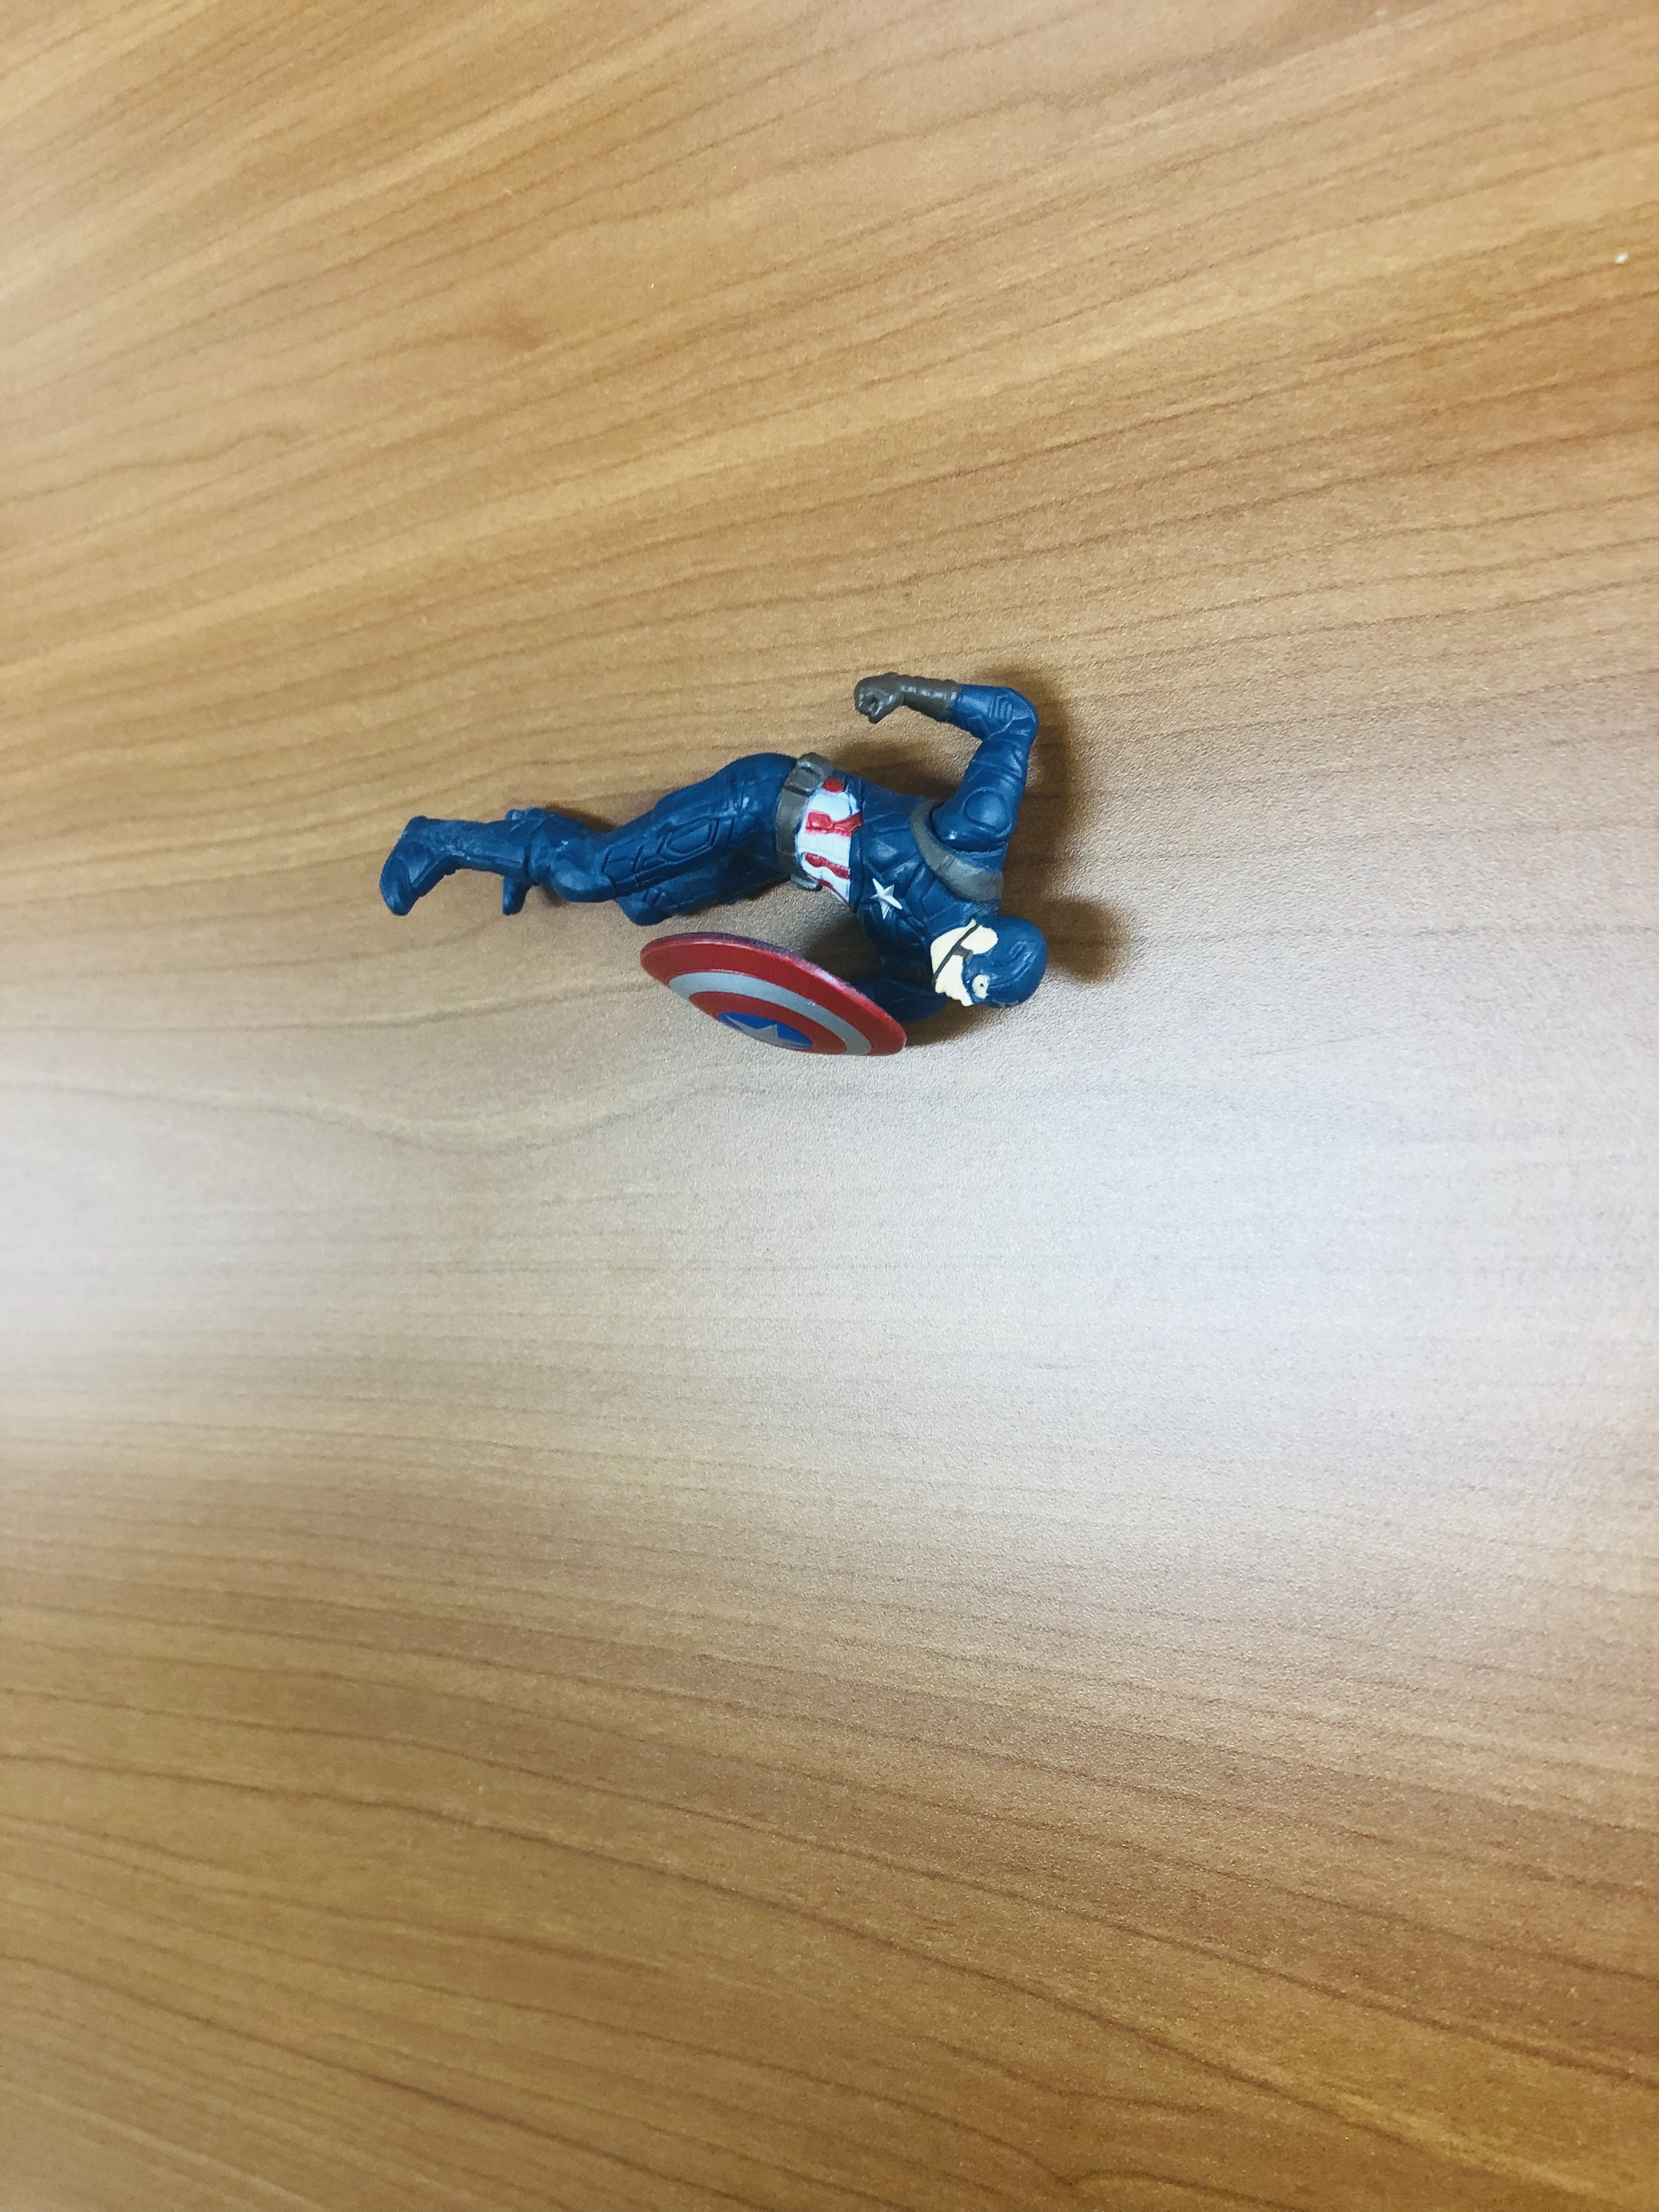people: (285, 633, 1168, 1076)
